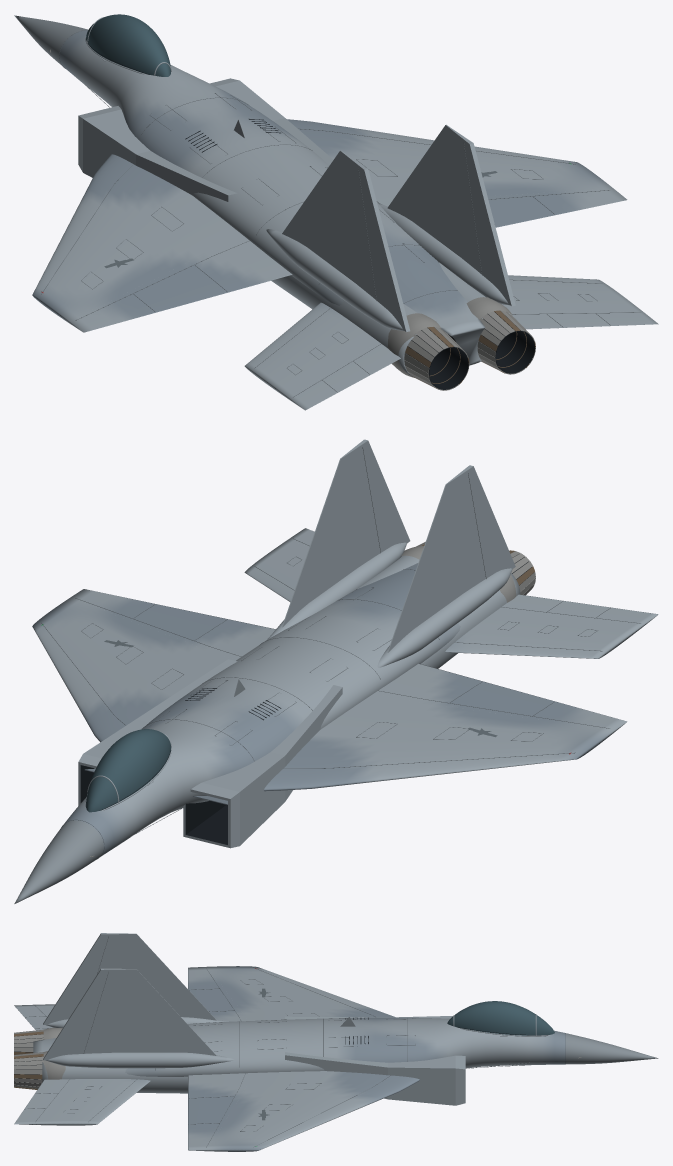
The picture shows the model from 3 angles, top to bottom: view 1: azimuth 30°, elevation 25°; view 2: azimuth 150°, elevation 25°; view 3: azimuth 270°, elevation 25°; orthographic projection. The views are drawn at different scales.
Visible parts, largest first — view 1: f-15c | continuous fuselage, f-15c | main wing L, f-15c | main wing R, f-15c | vertical stabilizer, f-15c | vertical stabilizer.001, f-15c | all moving tailplane L, f-15c | all moving tailplane R, f-15c | intake external cowl and belly fairing.002, f-15c | single seat canopy glazing, f-15c | fin root fillet, f-15c | fin root fillet.001, f-15c | engine nacelle (+4 smaller); view 2: f-15c | continuous fuselage, f-15c | main wing L, f-15c | main wing R, f-15c | vertical stabilizer.001, f-15c | vertical stabilizer, f-15c | all moving tailplane L, f-15c | intake external cowl and belly fairing.002, f-15c | single seat canopy glazing, f-15c | fin root fillet, f-15c | all moving tailplane R, f-15c | fin root fillet.001, f-15c | intake external cowl and belly fairing.003 (+2 smaller); view 3: f-15c | continuous fuselage, f-15c | main wing R, f-15c | vertical stabilizer.001, f-15c | main wing L, f-15c | vertical stabilizer, f-15c | all moving tailplane R, f-15c | intake external cowl and belly fairing.003, f-15c | single seat canopy glazing, f-15c | fin root fillet.001, f-15c | engine nacelle.001, f-15c | all moving tailplane L, f-15c | nozzle collar.001.
Part boxes in pixels (x1,y1,x2,y2): f-15c | continuous fuselage: [14, 15, 485, 365]; f-15c | main wing L: [32, 154, 292, 332]; f-15c | main wing R: [287, 119, 627, 227]; f-15c | vertical stabilizer: [282, 150, 410, 331]; f-15c | vertical stabilizer.001: [387, 124, 515, 306]; f-15c | all moving tailplane L: [244, 302, 400, 410]; f-15c | all moving tailplane R: [502, 275, 658, 329]; f-15c | intake external cowl and belly fairing.002: [78, 106, 237, 201]; f-15c | single seat canopy glazing: [86, 14, 170, 76]; f-15c | fin root fillet: [266, 229, 403, 330]; f-15c | fin root fillet.001: [377, 202, 509, 305]; f-15c | engine nacelle: [271, 275, 417, 376]; f-15c | continuous fuselage: [14, 563, 460, 903]; f-15c | main wing L: [264, 663, 627, 791]; f-15c | main wing R: [32, 589, 275, 742]; f-15c | vertical stabilizer.001: [282, 439, 410, 627]; f-15c | vertical stabilizer: [387, 465, 515, 652]; f-15c | all moving tailplane L: [445, 594, 658, 658]; f-15c | intake external cowl and belly fairing.002: [191, 685, 342, 847]; f-15c | single seat canopy glazing: [86, 729, 171, 812]; f-15c | fin root fillet: [377, 568, 512, 667]; f-15c | all moving tailplane R: [244, 528, 314, 602]; f-15c | fin root fillet.001: [267, 542, 406, 639]; f-15c | intake external cowl and belly fairing.003: [78, 659, 237, 766]; f-15c | continuous fuselage: [33, 1017, 658, 1076]; f-15c | main wing R: [188, 1071, 419, 1151]; f-15c | vertical stabilizer.001: [43, 968, 216, 1060]; f-15c | main wing L: [188, 966, 395, 1021]; f-15c | vertical stabilizer: [43, 933, 216, 1024]; f-15c | all moving tailplane R: [14, 1079, 150, 1125]; f-15c | intake external cowl and belly fairing.003: [285, 1052, 465, 1105]; f-15c | single seat canopy glazing: [447, 1001, 554, 1035]; f-15c | fin root fillet.001: [45, 1052, 234, 1068]; f-15c | engine nacelle.001: [42, 1062, 187, 1093]; f-15c | all moving tailplane L: [14, 1004, 54, 1030]; f-15c | nozzle collar.001: [43, 1051, 65, 1079].
Size of the model in its own units: 13.05 by 4.29 by 19.45.
